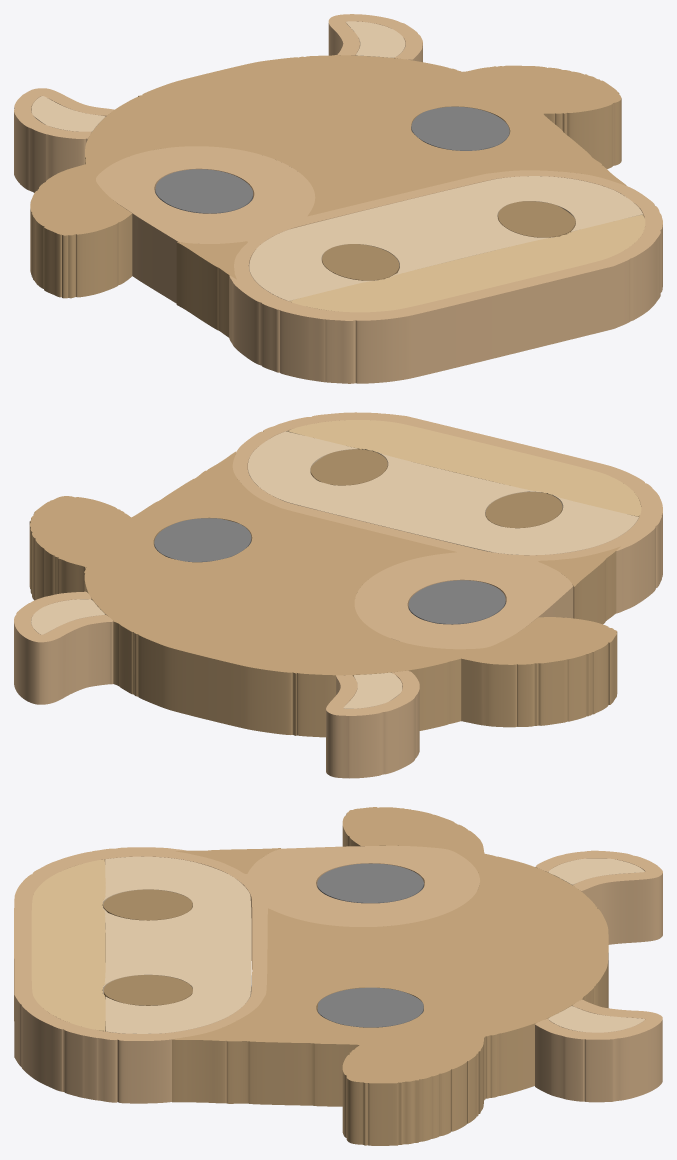
The model's file is vacaDAE.dae.
3 renders of one model, top to bottom at view 1: azimuth 30°, elevation 25°; view 2: azimuth 150°, elevation 25°; view 3: azimuth 270°, elevation 25°, orthographic.
Visible parts, largest first — view 1: vaca; view 2: vaca; view 3: vaca.
Boxes of the visible parts, bbox=[...] form: vaca: bbox=[14, 14, 662, 383]; vaca: bbox=[14, 412, 662, 778]; vaca: bbox=[14, 807, 662, 1145].
Size of the model in its own units: 94.83 by 94.12 by 10.
